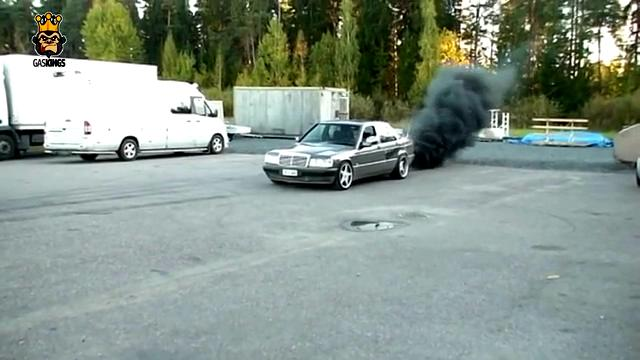smoke: (410, 61, 517, 171)
